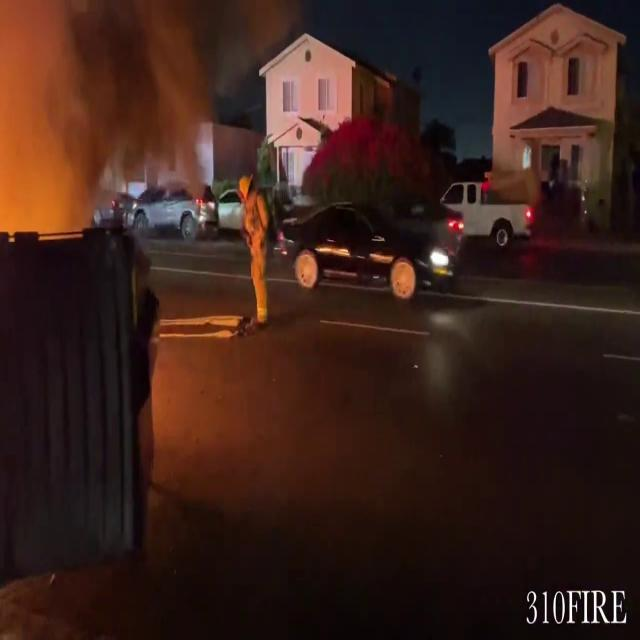Smoke: (0, 0, 260, 192)
